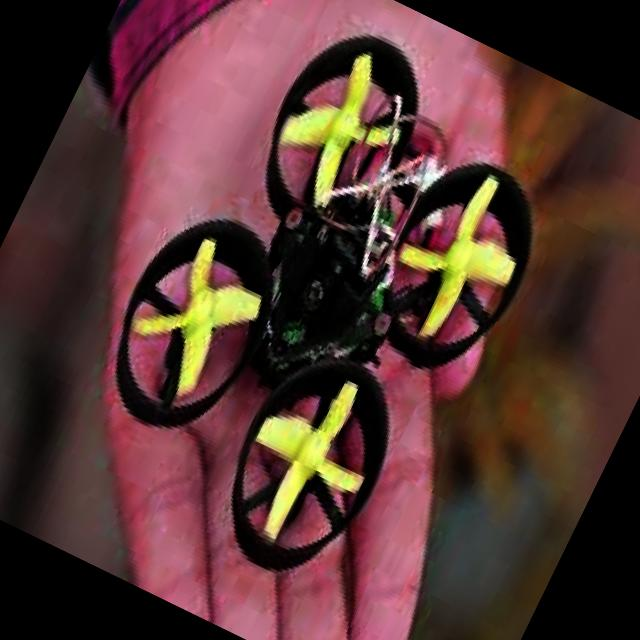drone: (48, 0, 600, 617)
